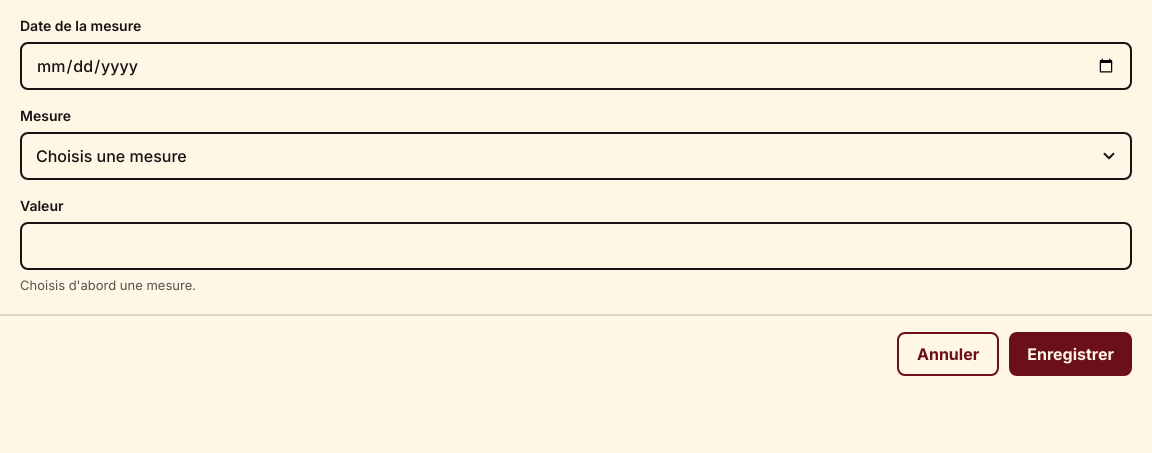
Test: AddMeasurementForm › message global annoncé en alerte
Click the button "Enregistrer". click: x=1071, y=354
box: x1=1009 y1=332 x2=1132 y2=376
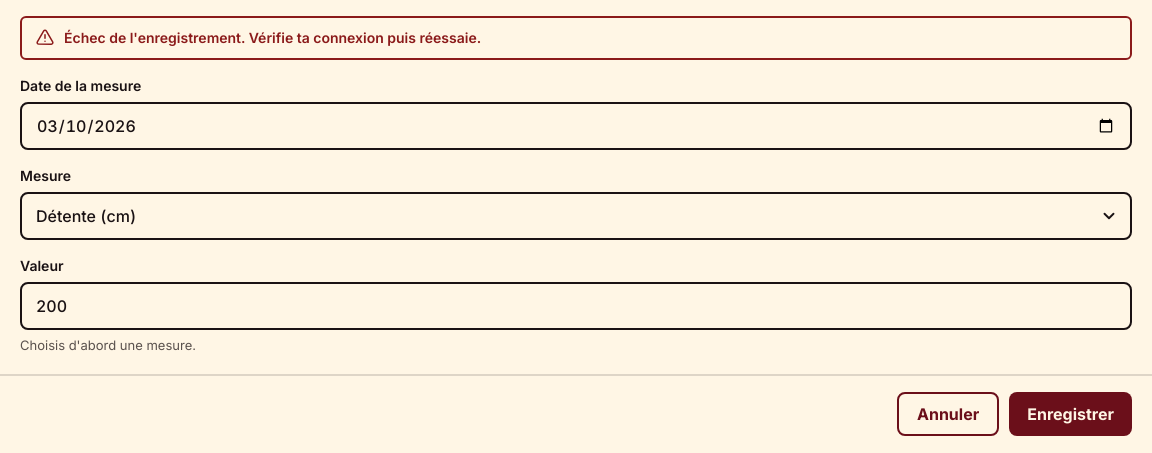
Expected: the message shows "Échec de l'enregistrement.", x1=64 y1=29 x2=481 y2=46
